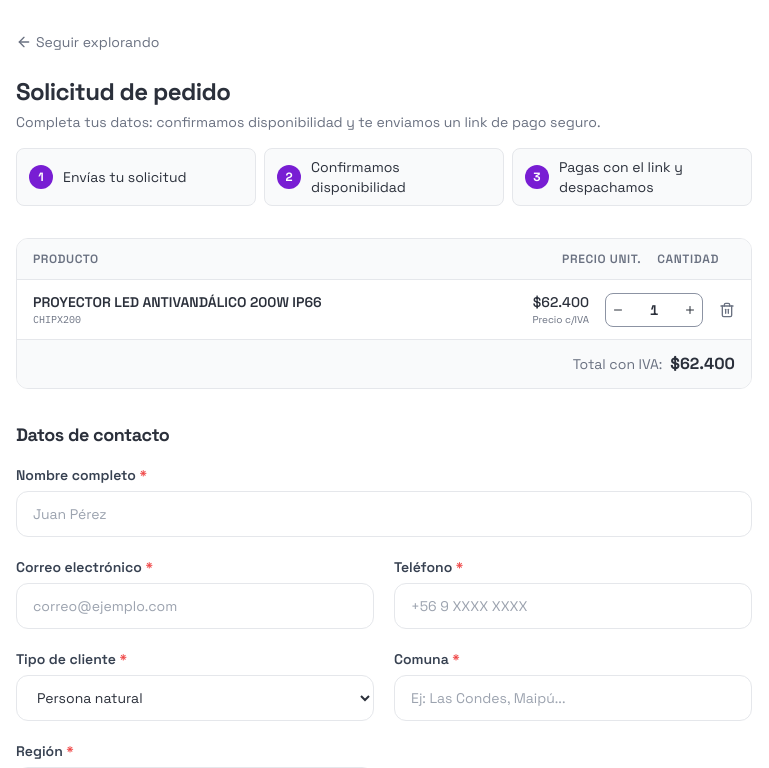
/solicitar-pedido: envío y origen de la visita › con un origen guardado en la sesión, el envío lo lleva en attribution
Type "PRUEBA ETAPA 2 (10) - borrar" into the field labelled "Nombre completo *".
click(384, 514); type("PRUEBA ETAPA 2 (10) - borrar")  # box [16,491,752,537]
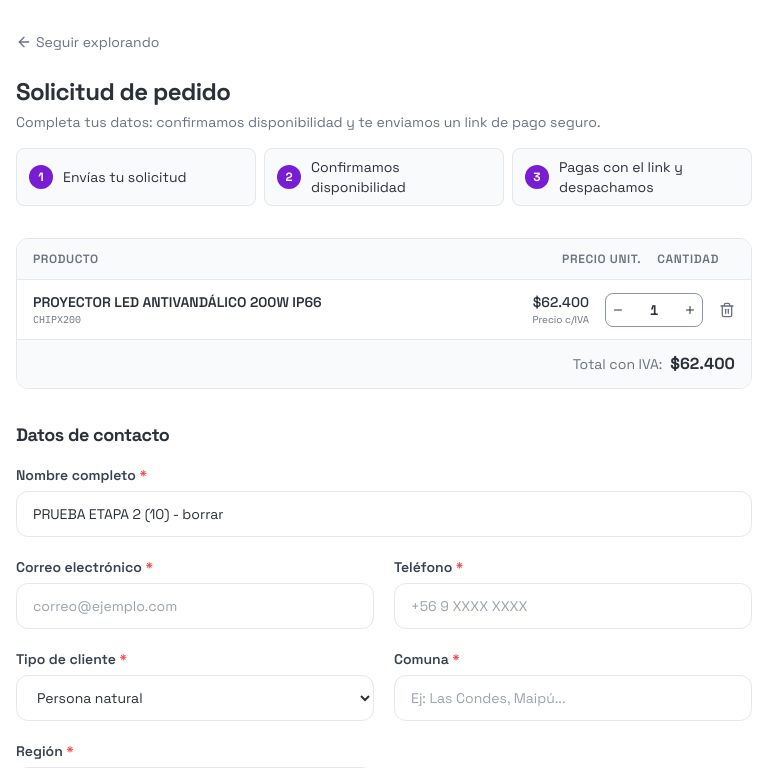
Type "prueba-etapa2-10@example.com" into the field labelled "Correo electrónico *".
click(195, 606); type("prueba-etapa2-10@example.com")  # box [16,583,374,629]
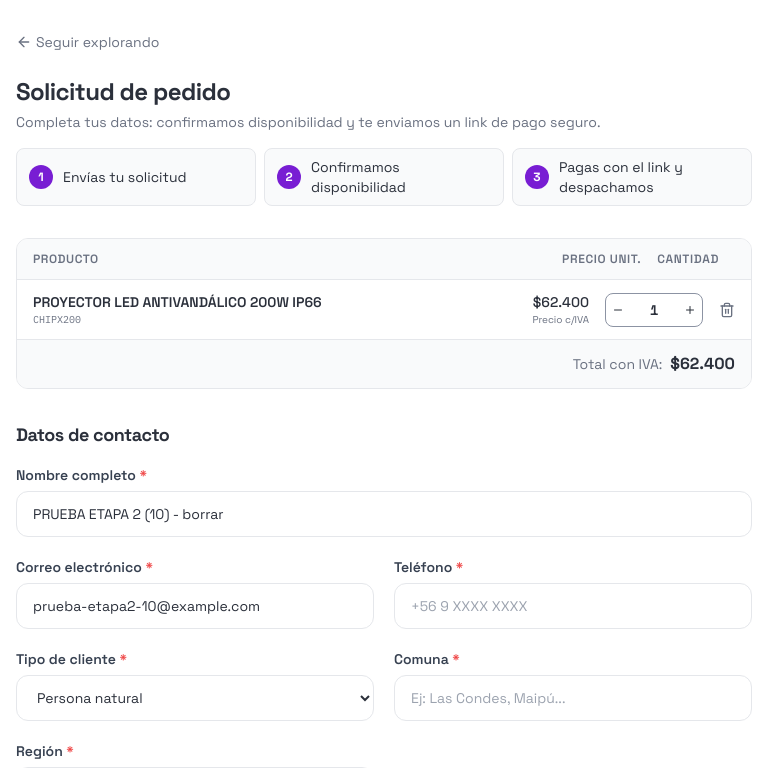
Type "+56 9 0000 0910" into the field labelled "Teléfono *".
click(573, 606); type("+56 9 0000 0910")  # box [394,583,752,629]
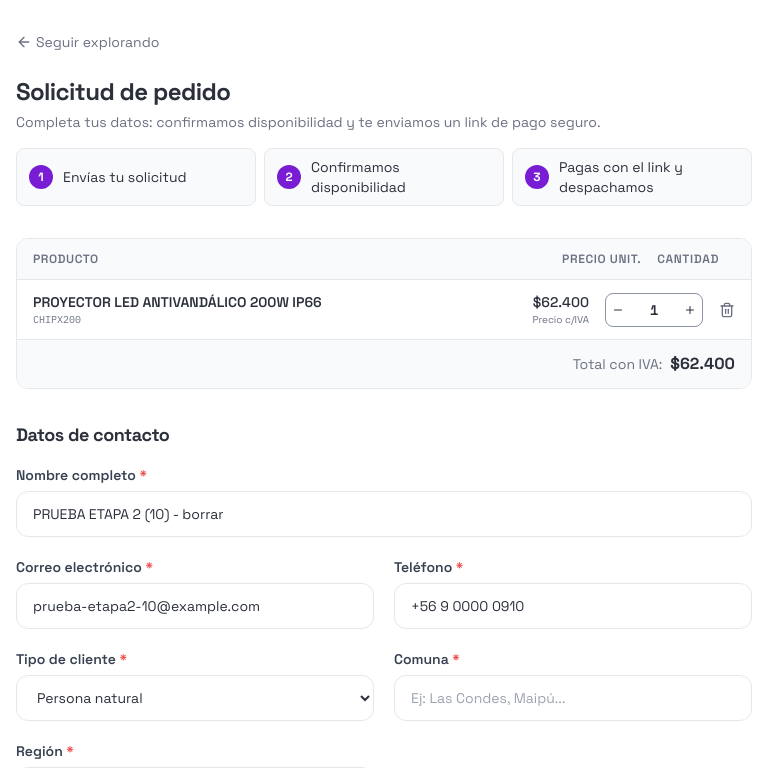
Type "Santiago" into the field labelled "Comuna *".
click(573, 698); type("Santiago")  # box [394,675,752,721]
(page scrolled)
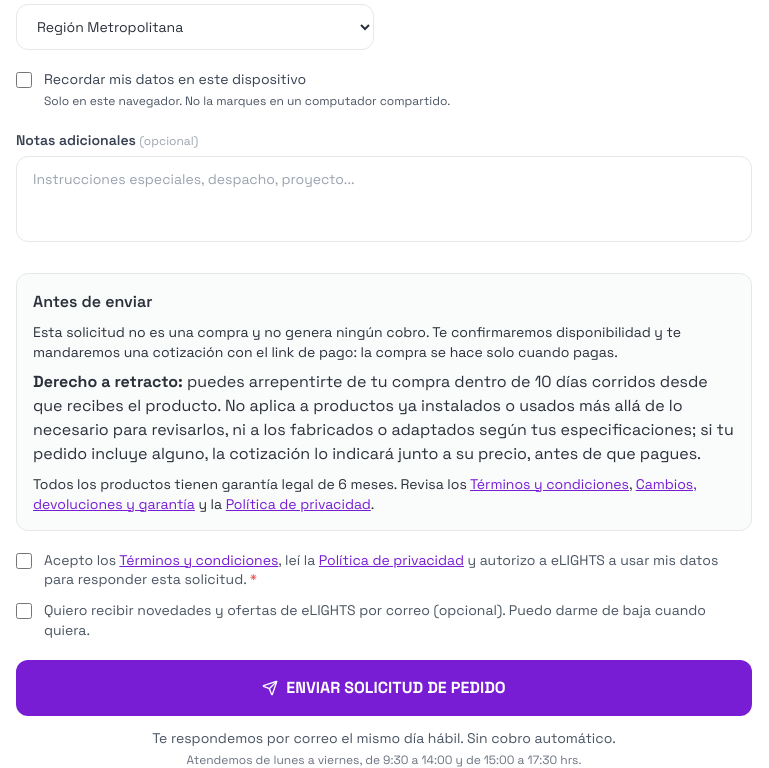
Click the checkbox named "autorizo a eLIGHTS a usar mis datos".
click(24, 561)  # box [16,553,32,569]
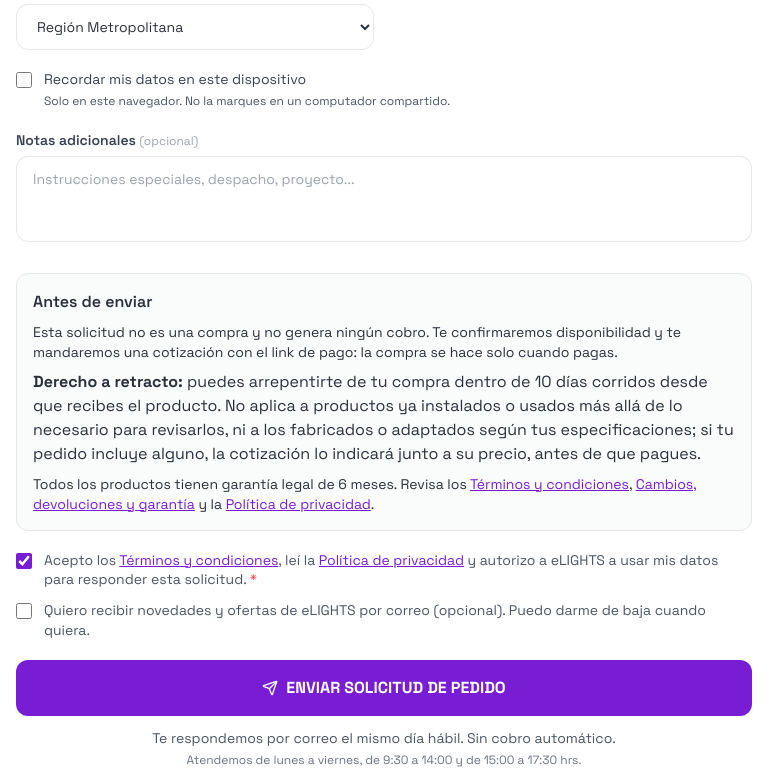
Click the button "ENVIAR SOLICITUD DE PEDIDO".
click(384, 688)  # box [16,660,752,716]
(page scrolled)
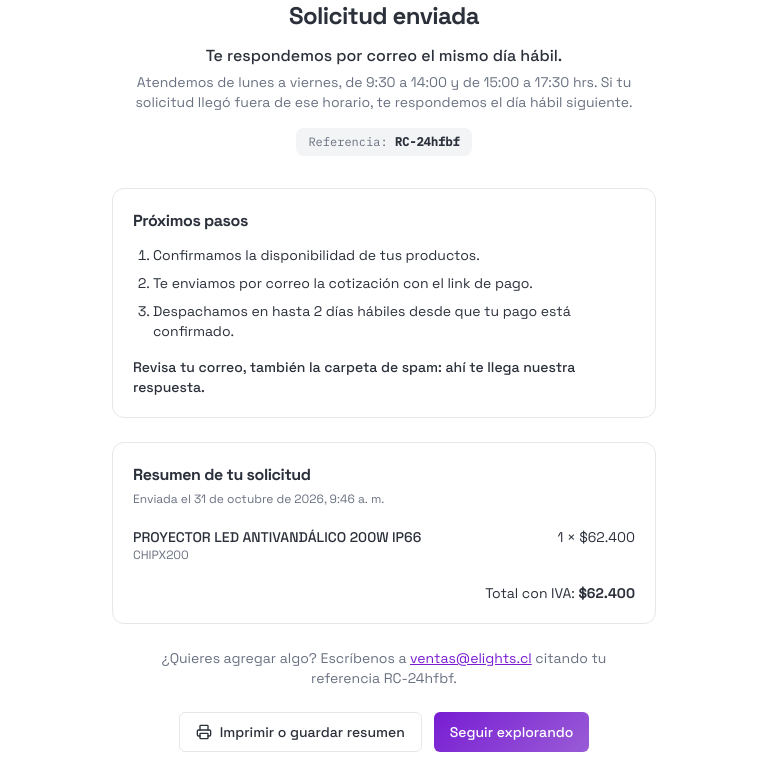
Result: the heading "Solicitud enviada" is shown at [289,0,479,31]
